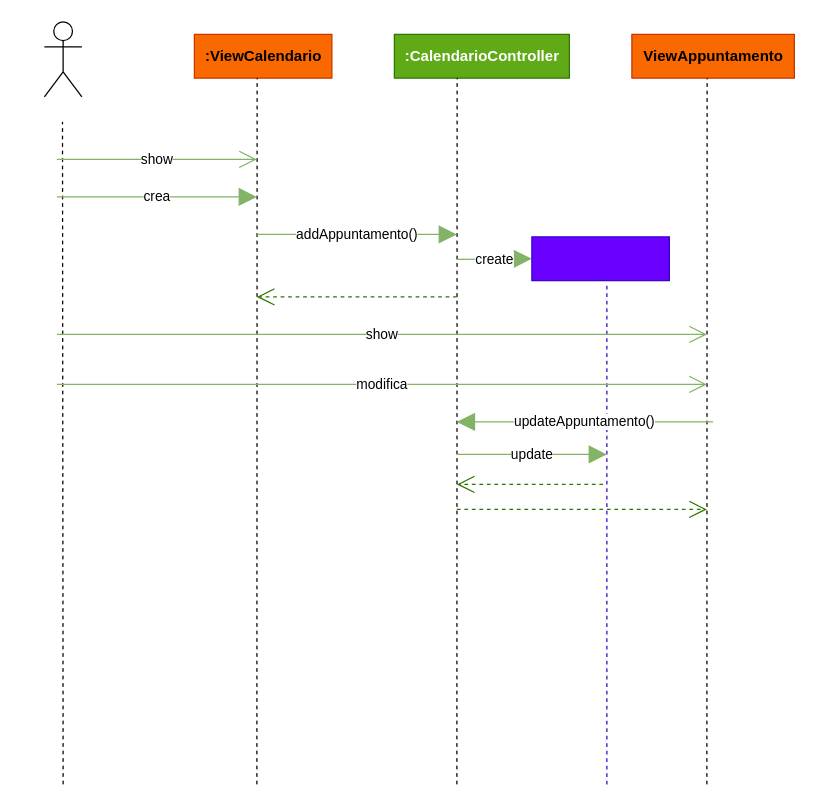
This 816x808 diagram has some shape labels left out. Each missing label, with the centre of its shape:
":Appuntamento" goes at [600,258].
"Nutrizionista" goes at [62,59].
